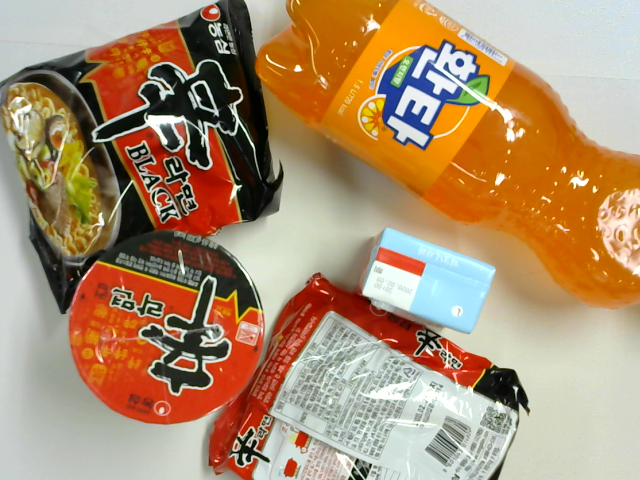Hwanta_Orange_1.5L: (252, 1, 639, 310)
Picnic_Apple: (356, 227, 495, 336)
Sinramen: (208, 273, 530, 480)
Sinramen_Black: (1, 1, 284, 314)
Sinramen_small: (70, 231, 266, 425)
